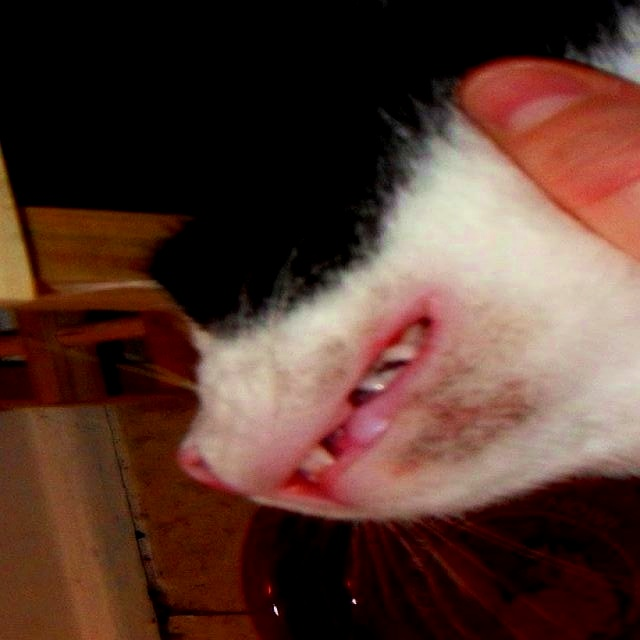acne: (385, 355, 537, 480)
